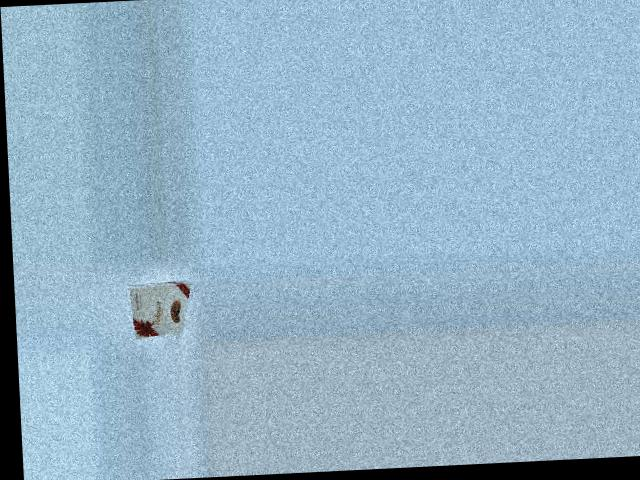chocolate: (129, 268, 196, 340)
